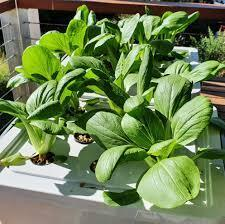Healthy-Pechay: (1, 6, 224, 209), (151, 10, 194, 40), (185, 60, 225, 84), (39, 30, 72, 56), (117, 13, 141, 47), (28, 99, 65, 119), (0, 99, 29, 119), (84, 24, 106, 45), (122, 73, 143, 94)
